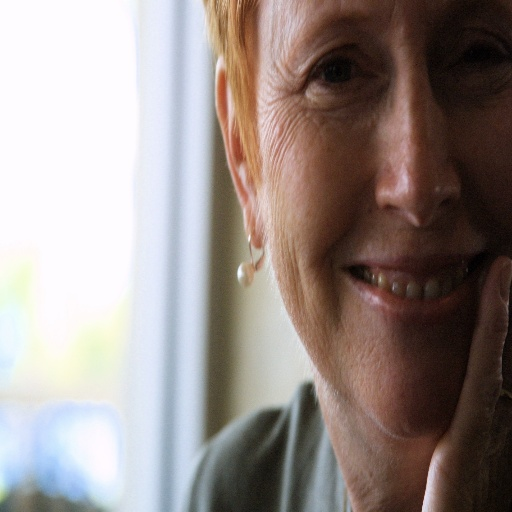hand: (420, 256, 511, 511)
